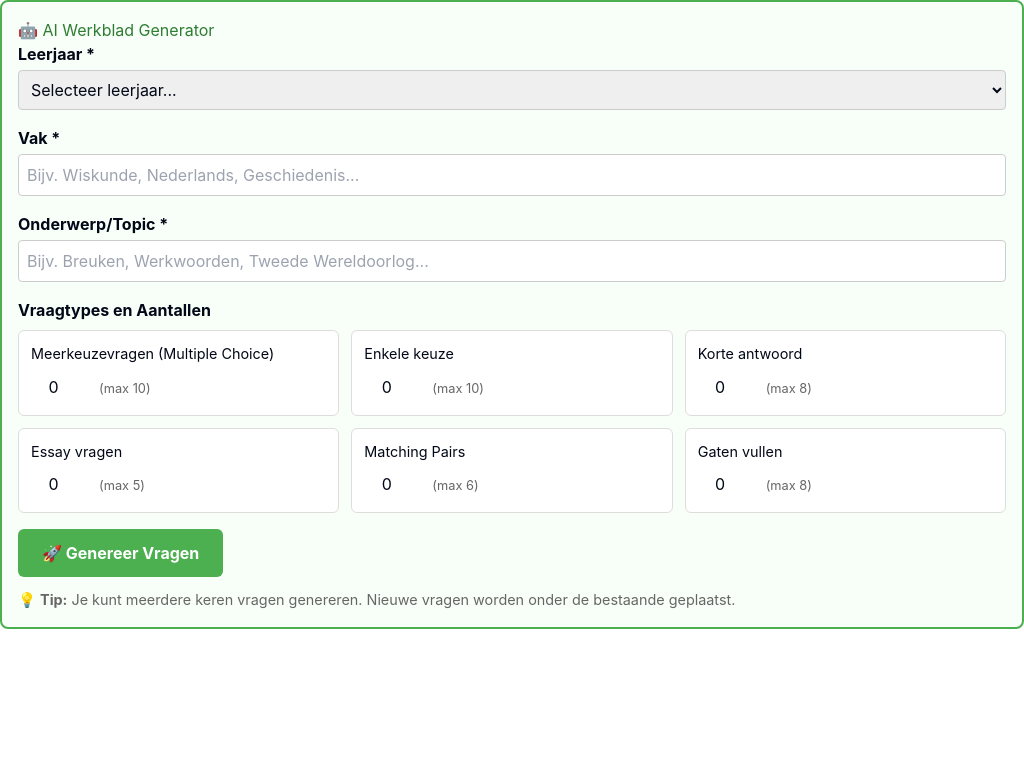
it: AIWorksheetGenerator › shows validation error when no question types are selected
// Fill required fields but no question types
Select "3e leerjaar basisonderwijs" in the dropdown at (512, 90), box [18,70,1006,110]
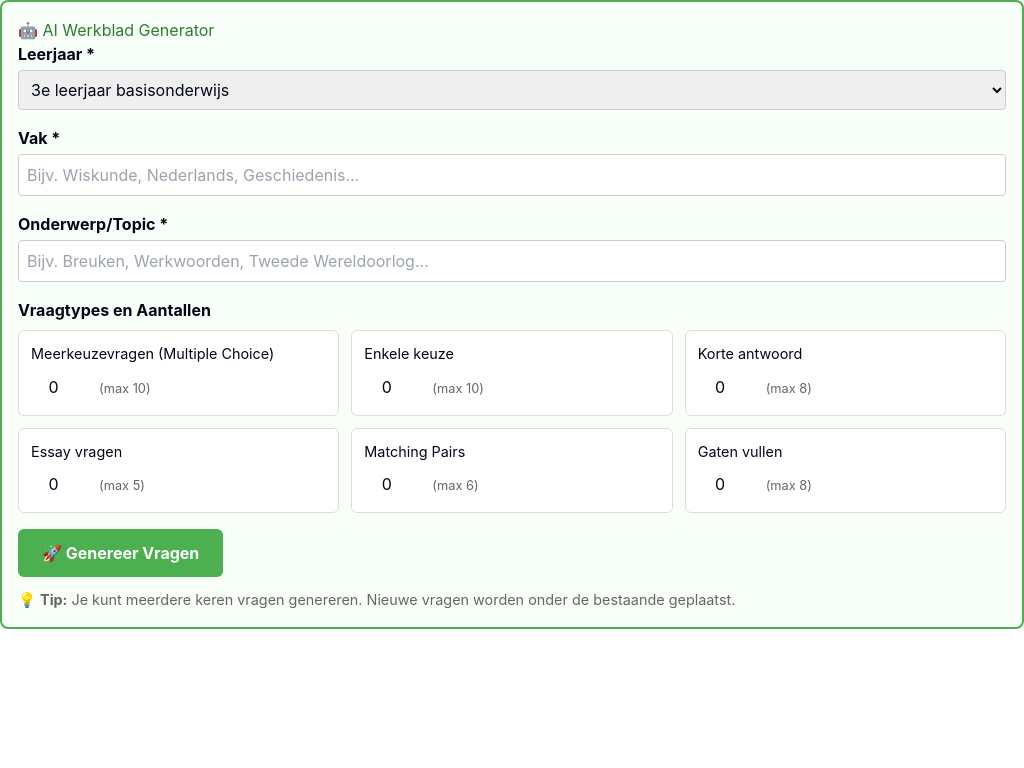
Type "Wiskunde" into the field with placeholder "Bijv. Wiskunde, Nederlands, Geschiedenis...".
click(512, 175); type("Wiskunde")  # box [18,154,1006,196]
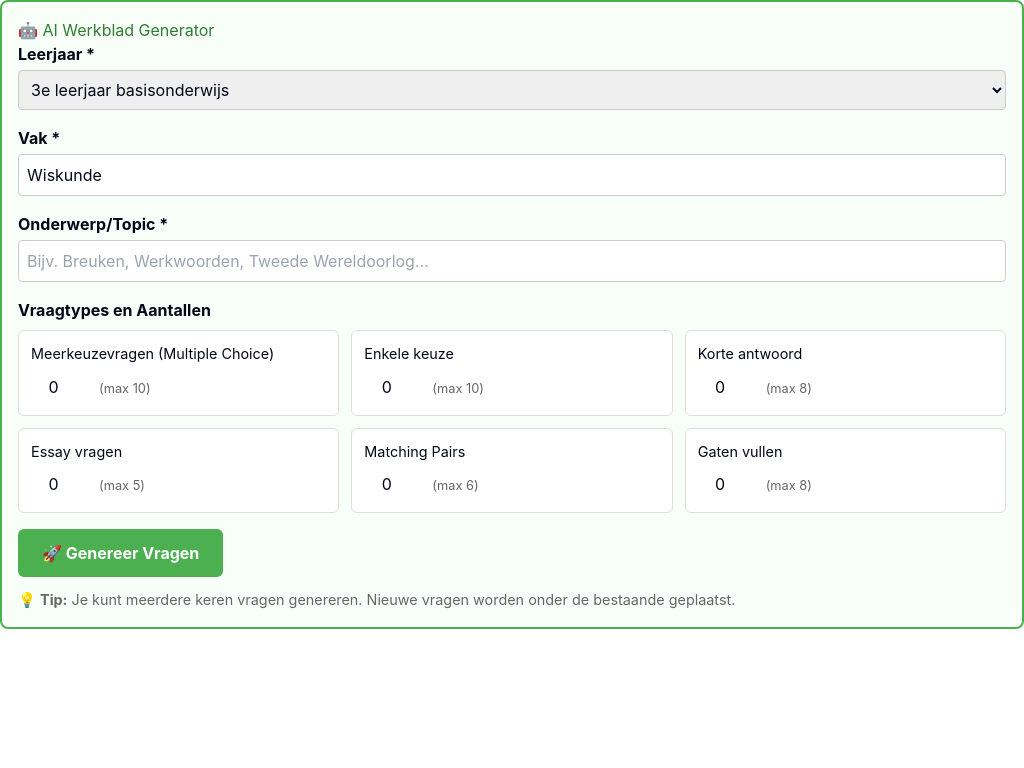
Type "Breuken" into the field with placeholder "Bijv. Breuken, Werkwoorden, Tweede Wereldoorlog...".
click(512, 261); type("Breuken")  # box [18,240,1006,282]
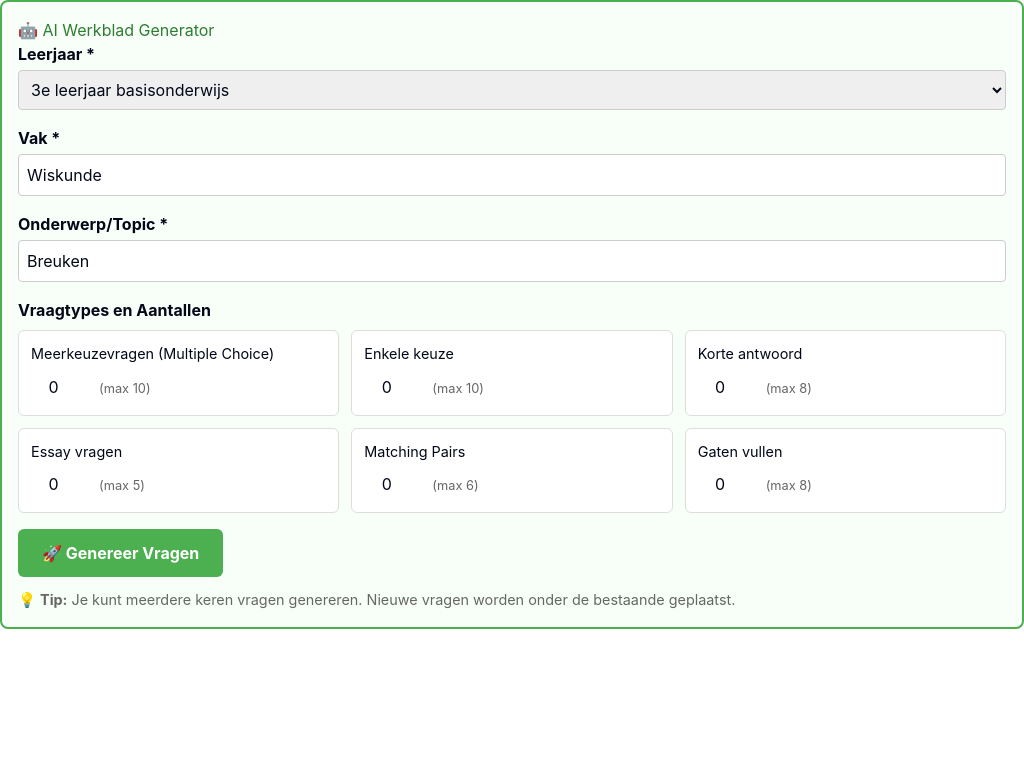
Click the button "🚀 Genereer Vragen".
click(121, 553)  # box [18,529,223,577]
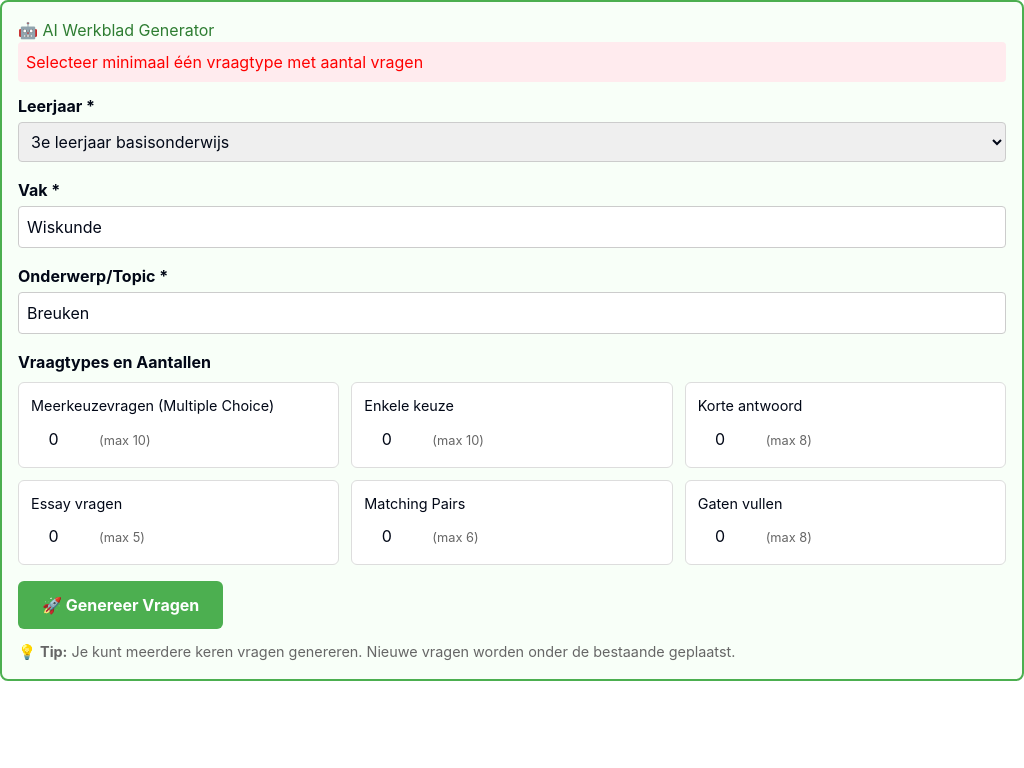
Check: the text "Selecteer minimaal één vraagtype met aantal vragen" is shown, box [18,42,1006,82]
